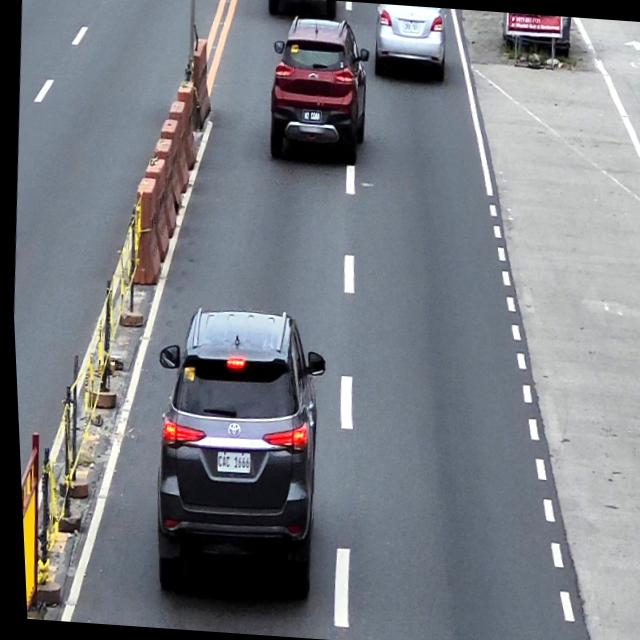Car: (138, 304, 335, 608), (261, 13, 375, 166), (371, 3, 450, 82)
License-Plate: (212, 450, 247, 474), (402, 20, 420, 34), (301, 109, 320, 122)
